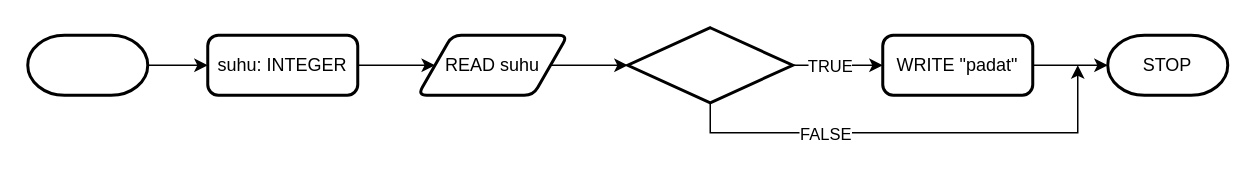
This 1254x171 diagram has some shape labels left out. The shapes that lost their labels are listed below. From the top down, each one's box as (x1, y1, x2, y2) in pixels, then its label:
(26, 33, 148, 96): START
(626, 26, 794, 104): suhu <= 0 ?
